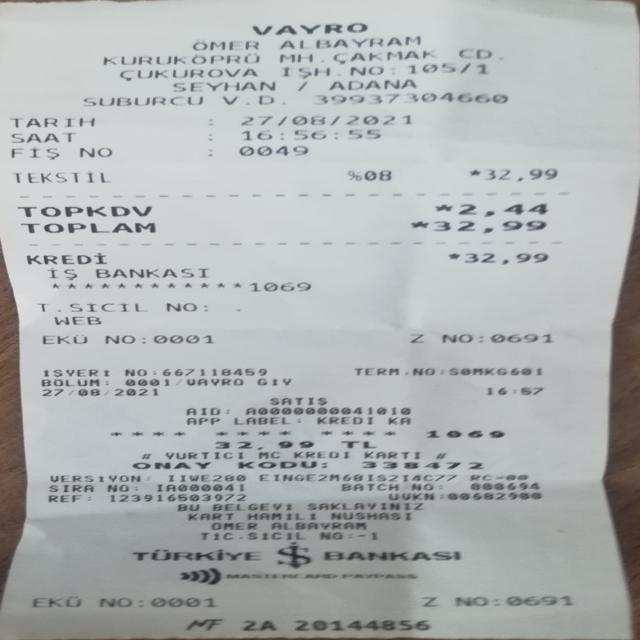text: (325, 543, 463, 568), (277, 62, 488, 77), (132, 542, 257, 567), (314, 92, 508, 104), (278, 36, 425, 50), (239, 114, 410, 126), (99, 53, 266, 65), (259, 473, 454, 483), (294, 618, 427, 631), (248, 22, 371, 35), (432, 219, 545, 233), (240, 129, 380, 140), (17, 205, 149, 216), (116, 69, 256, 79), (19, 222, 155, 232), (242, 406, 412, 414), (81, 95, 202, 106), (456, 203, 550, 216), (109, 493, 244, 502), (361, 460, 480, 470), (93, 267, 209, 277), (41, 387, 156, 397), (330, 50, 434, 61), (486, 167, 556, 182), (306, 502, 422, 511), (26, 252, 106, 265), (13, 171, 106, 182), (464, 252, 548, 264), (214, 439, 312, 449), (160, 368, 266, 377), (200, 531, 302, 540), (49, 473, 140, 483), (449, 491, 540, 501), (326, 79, 415, 89), (326, 511, 413, 521), (270, 521, 365, 530), (9, 117, 94, 127), (170, 82, 274, 90), (221, 93, 283, 106), (210, 502, 290, 512), (188, 39, 260, 50), (68, 302, 147, 312), (164, 450, 242, 460), (132, 460, 210, 470), (237, 460, 315, 470), (166, 473, 244, 483), (427, 429, 505, 439), (447, 367, 544, 375), (488, 332, 551, 344), (156, 595, 218, 607), (152, 484, 244, 492), (504, 596, 576, 606), (219, 573, 337, 579), (11, 132, 74, 143), (248, 281, 310, 292), (246, 511, 314, 521), (151, 334, 215, 344), (362, 450, 424, 460), (340, 482, 398, 492), (236, 146, 308, 154), (32, 595, 80, 607), (269, 396, 326, 406), (486, 386, 542, 396), (292, 450, 348, 460), (41, 333, 85, 345), (40, 378, 98, 387), (466, 482, 540, 489), (8, 148, 59, 158), (125, 377, 175, 387), (40, 369, 111, 376), (184, 378, 246, 386), (233, 416, 287, 425), (316, 416, 370, 425), (274, 50, 310, 63), (341, 573, 418, 579), (53, 315, 99, 325), (75, 146, 112, 158), (241, 618, 275, 631), (388, 492, 437, 501), (48, 483, 92, 493), (456, 48, 492, 60), (186, 512, 232, 521), (210, 521, 255, 530), (356, 367, 399, 376), (46, 268, 78, 280), (185, 405, 219, 416), (104, 333, 135, 345), (440, 332, 470, 344), (100, 595, 129, 607), (164, 302, 197, 312), (340, 439, 373, 449), (254, 377, 295, 385), (363, 169, 390, 181), (454, 595, 482, 606), (185, 416, 219, 425), (46, 494, 80, 503), (123, 367, 146, 377), (409, 482, 432, 492), (175, 502, 198, 512), (411, 367, 436, 376), (409, 220, 426, 233), (257, 450, 279, 460), (468, 472, 490, 482), (106, 483, 128, 493), (385, 416, 409, 425), (319, 531, 343, 540), (34, 302, 53, 312), (502, 474, 528, 481), (420, 595, 436, 606), (430, 204, 455, 211), (408, 332, 422, 344), (205, 115, 218, 127), (469, 167, 479, 182), (347, 169, 359, 181), (447, 252, 459, 264), (139, 595, 151, 607), (296, 80, 307, 90), (198, 302, 208, 312), (473, 332, 481, 344), (174, 377, 183, 387), (492, 595, 501, 605), (204, 133, 214, 141), (372, 531, 380, 540), (205, 146, 211, 156), (140, 333, 144, 345), (322, 460, 326, 470), (225, 405, 228, 416), (104, 378, 107, 388), (296, 416, 299, 425), (152, 367, 154, 377), (87, 493, 89, 503)
